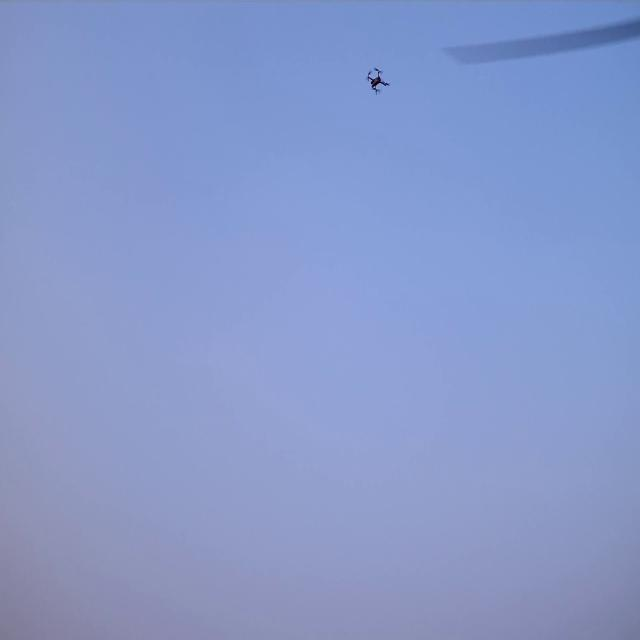UAV: (368, 69, 387, 94)
